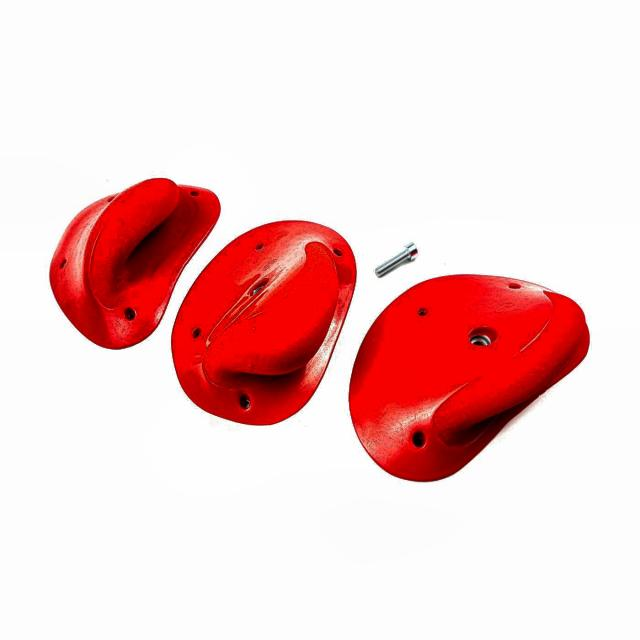Hold: (349, 271, 593, 485), (168, 224, 358, 427), (46, 178, 224, 352)
